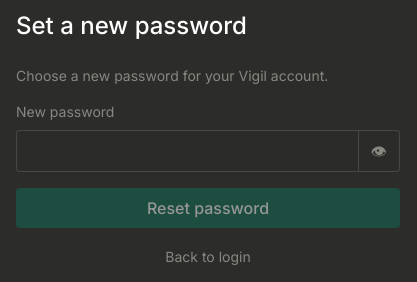
Scenario: ResetPasswordPage › AUTH-12-RPP-03-NO-RETRYAFTER-FALLBACK: 429 with no Retry-After renders rate-limited copy WITHOUT countdown
This screenshot has width=417, height=282.
Type "ValidNewPass123!" into the password field labelled "New password" at (187, 151), box [16,130,359,172]
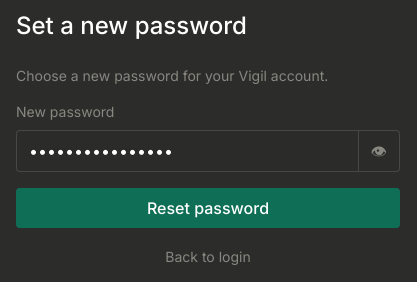
Click the button "Reset password" at (208, 208), box [16,188,400,228]
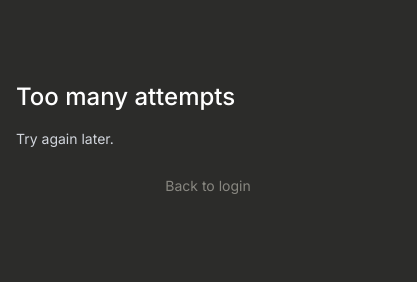
Now the heading reads "Too many attempts", box [16,82,235,111]
